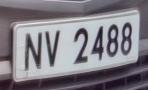2: (71, 24, 91, 70)
4: (90, 23, 106, 65)
8: (119, 19, 134, 61), (106, 21, 120, 63)
N: (23, 27, 44, 74)
V: (42, 27, 62, 71)
